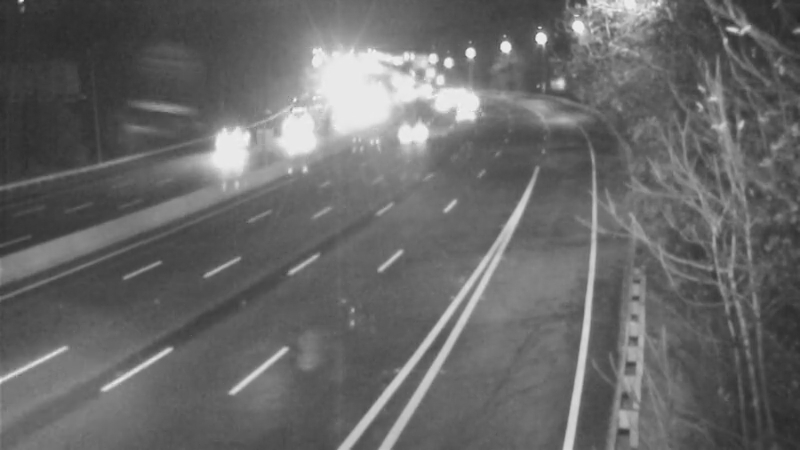vehicle: (445, 78, 495, 128), (412, 80, 462, 130), (439, 91, 489, 141), (381, 108, 431, 158), (193, 122, 243, 172), (274, 103, 324, 153)
